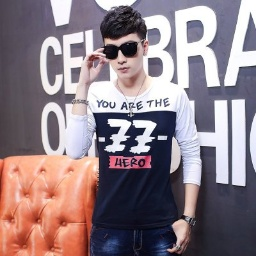face: (99, 5, 149, 78)
